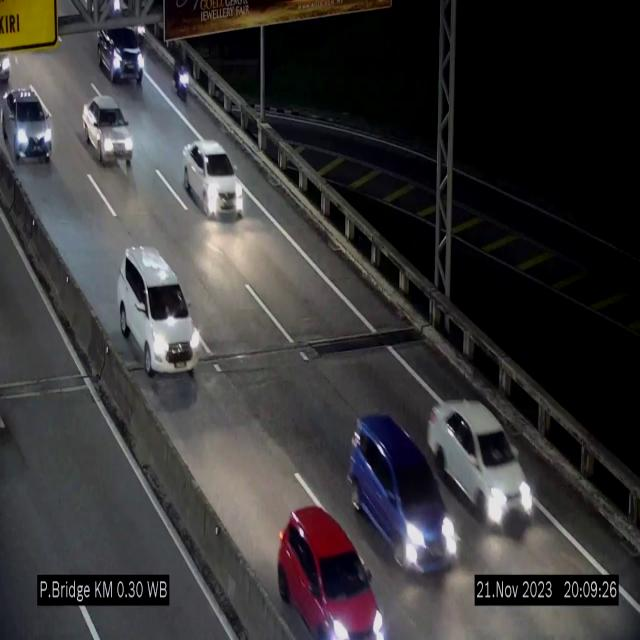Car: (348, 414, 456, 576), (278, 506, 388, 639), (426, 400, 534, 530), (118, 246, 198, 378), (183, 140, 243, 218), (2, 89, 52, 162), (82, 96, 134, 164), (101, 21, 143, 91)
Motorcycle: (172, 50, 192, 113)
